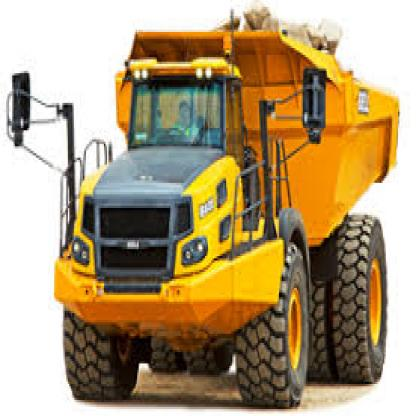dump_truck: (20, 13, 401, 388)
